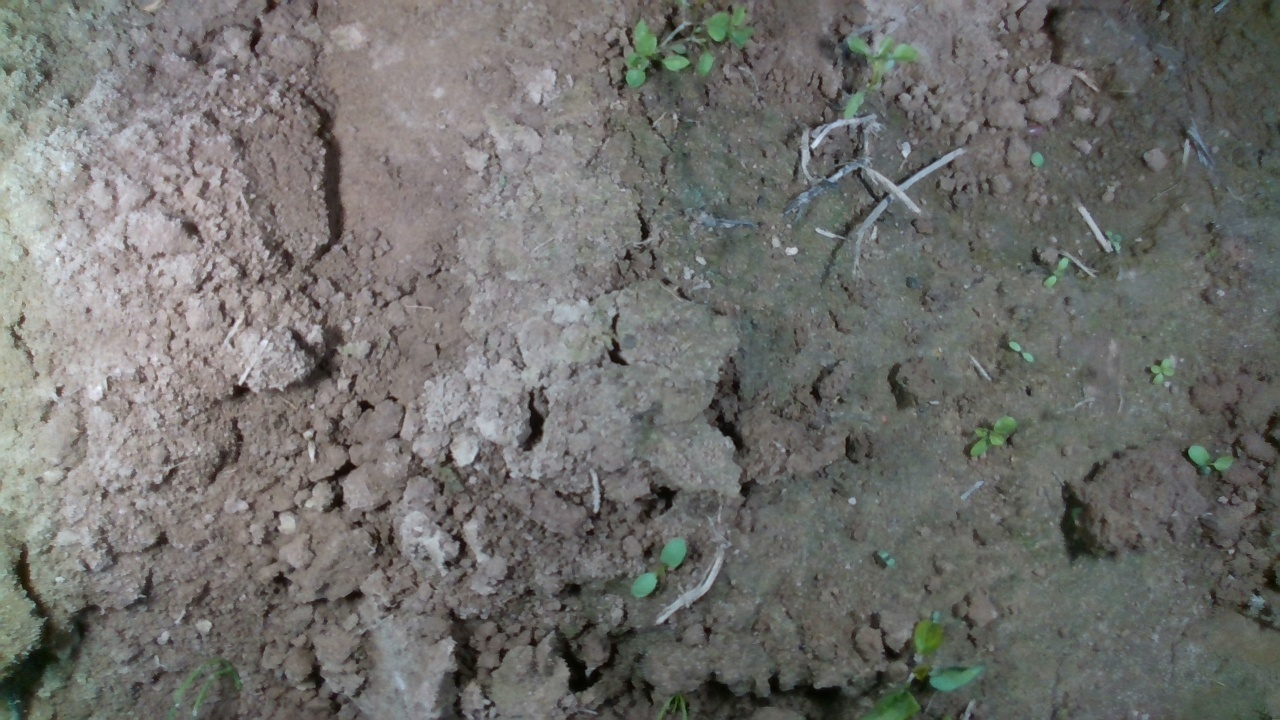weed: (628, 535, 686, 600), (966, 415, 1017, 459), (1187, 443, 1235, 472), (1147, 356, 1177, 386), (1042, 257, 1069, 290), (1006, 340, 1034, 363), (1103, 225, 1125, 253)
